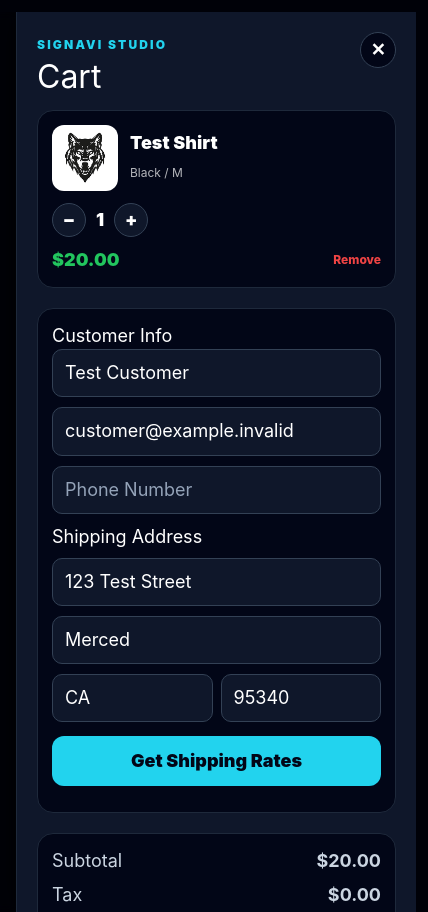
Scenario: CartDrawer shipping protection › ignores a pending rate response after the ZIP changes
Click the button "Get Shipping Rates" at [216, 761], box [52,736,381,786]
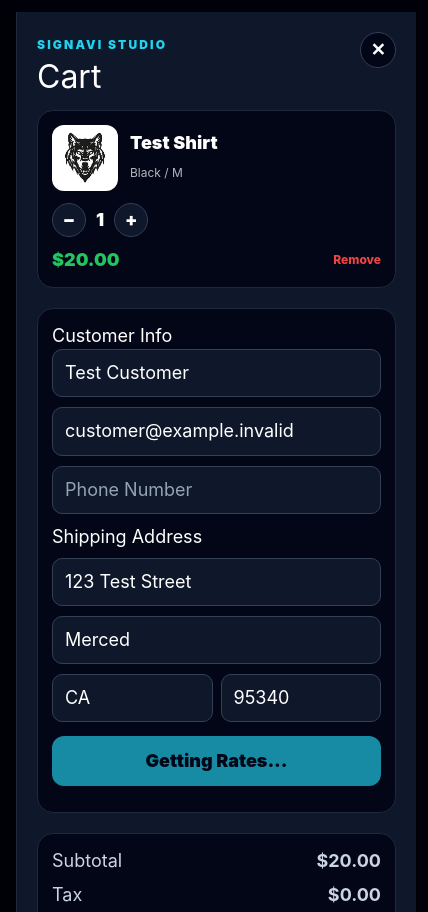
Replace the text in the 6th field with placeholder "ZIP *" with "95341" at [301, 698], box [220,674,381,722]
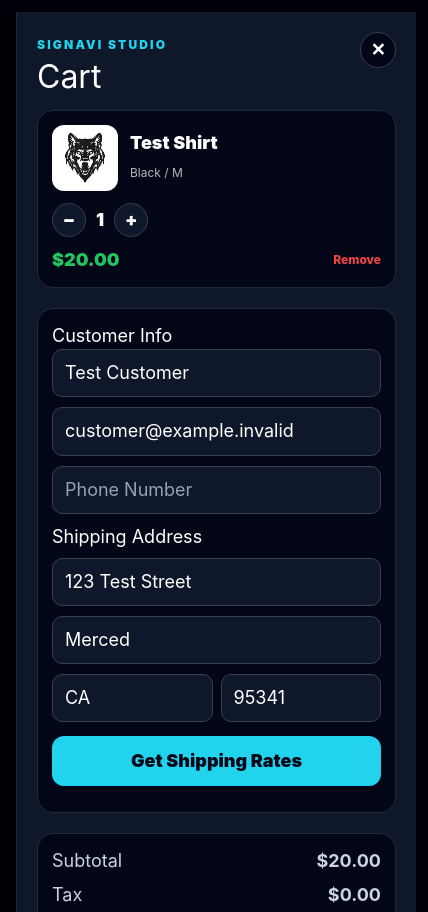
Now the button "Get Shipping Rates" is shown, box [52,736,381,786]
